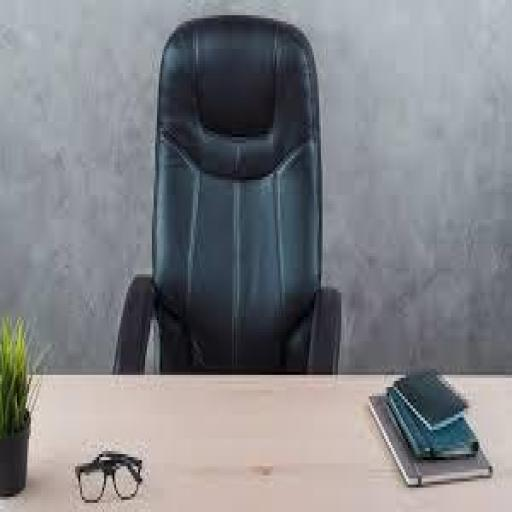chair: (116, 10, 347, 392)
